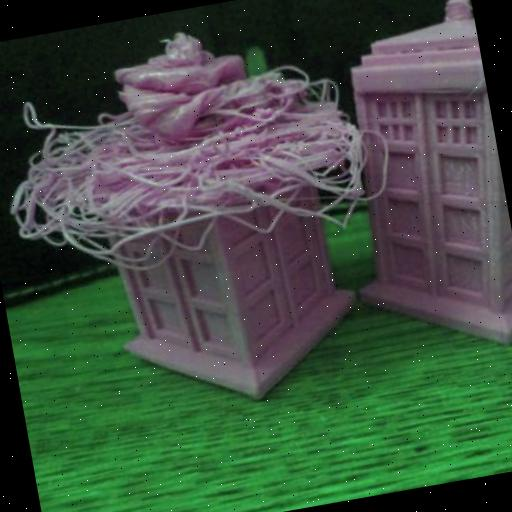spaghetti: (0, 0, 407, 297)
